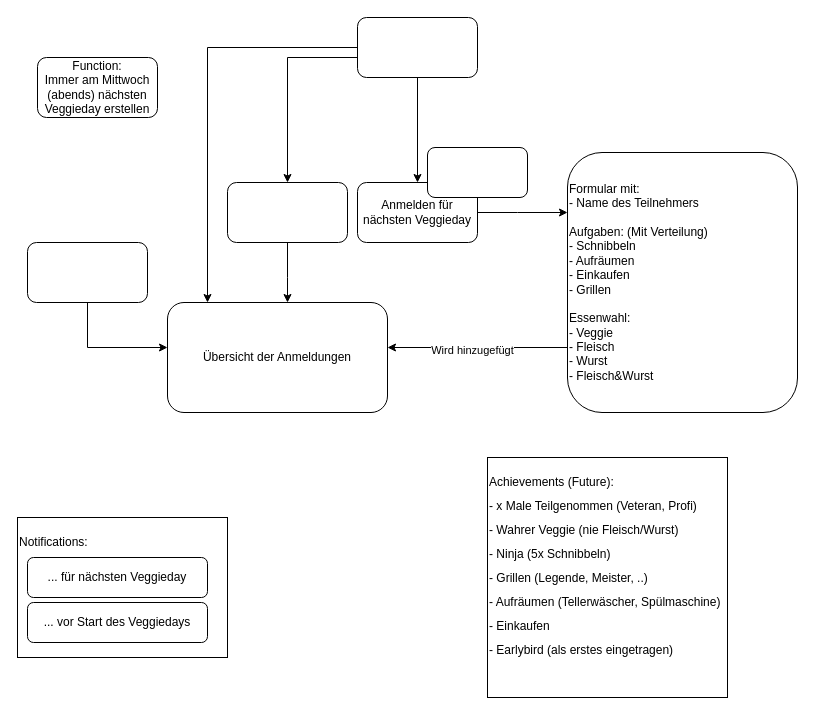
Image size: 815x715. Some labels were removed from this diagram. The shapes that lost their labels are listed below. From the top down, each one's centre as x and y in pixels, then its label:
pixel 417 47: Authentication (Email, Passwort)
pixel 477 172: Anmelden spätestens bis 8 Uhr
pixel 287 212: Abmelden vom Veggieday
pixel 87 272: Datumsauswahl (für Historie)
